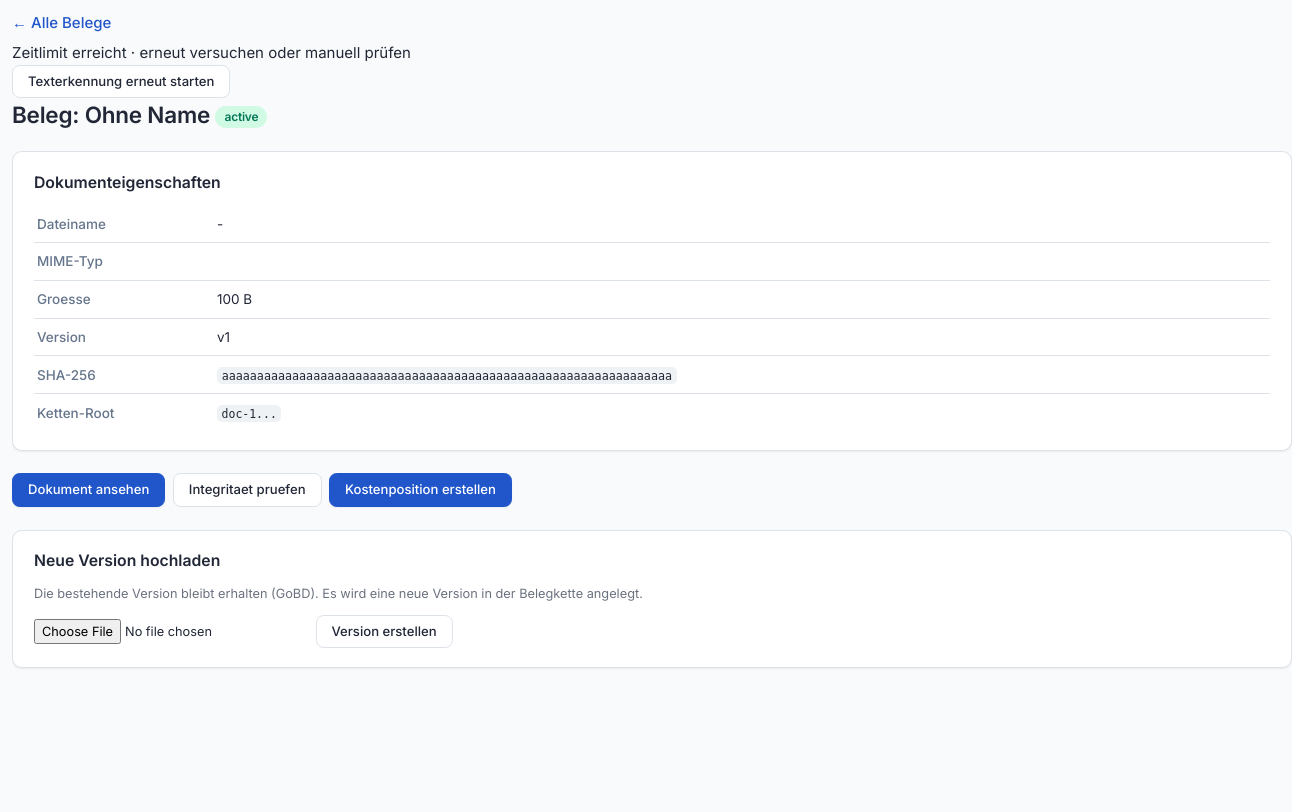
it: shows a failed extraction as stored original and queues a retry without a cost
The image size is (1292, 812).
Expected: the message shows "Zeitlimit erreicht", [12,43,411,62]
What coordinates should you click on to do the following:
click the button "Texterkennung erneut starten"
I would click on:
 (121, 81)
Its box is [12,64,230,98].
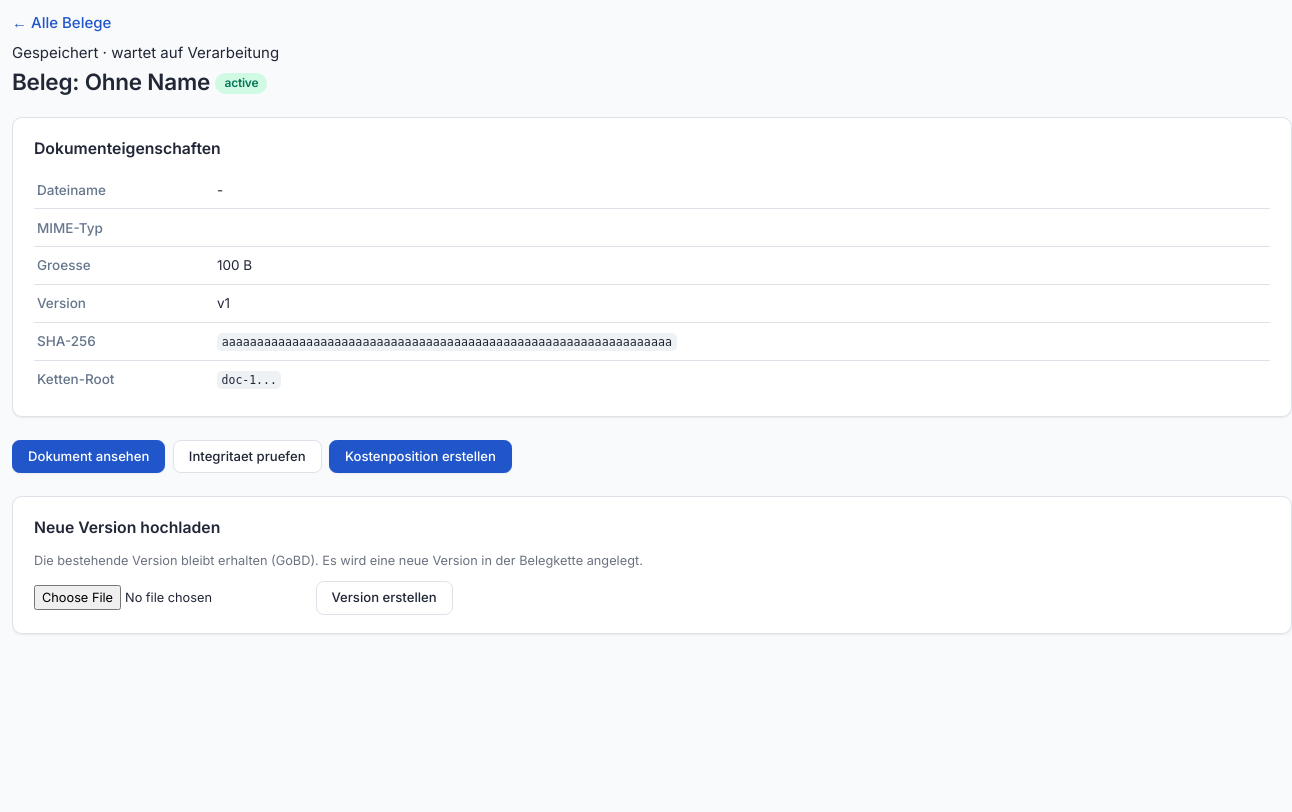
Now the message shows "Gespeichert", box [12,43,279,62]
